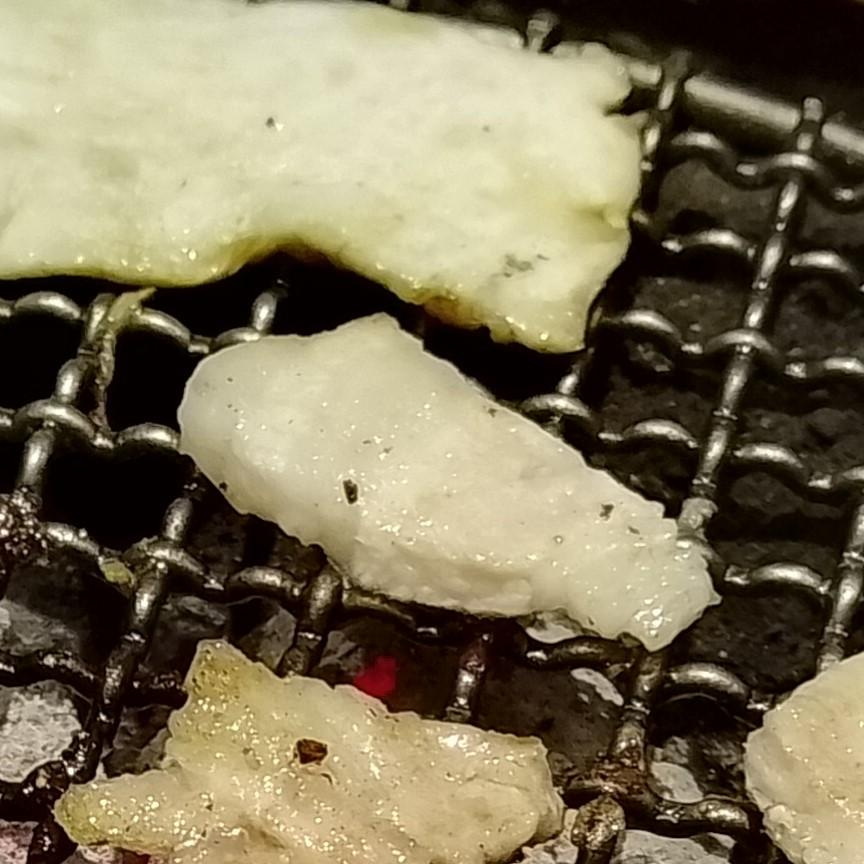Undercooked: (0, 0, 644, 357), (174, 314, 721, 655), (54, 644, 567, 863)
